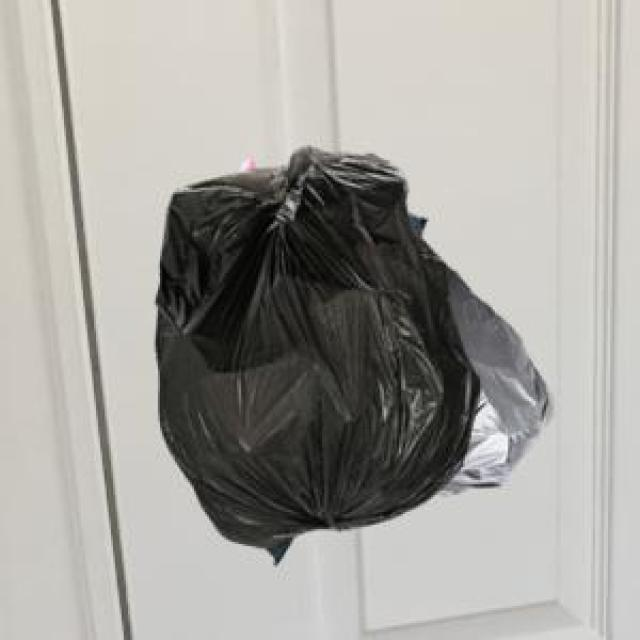waste: (156, 148, 548, 563)
